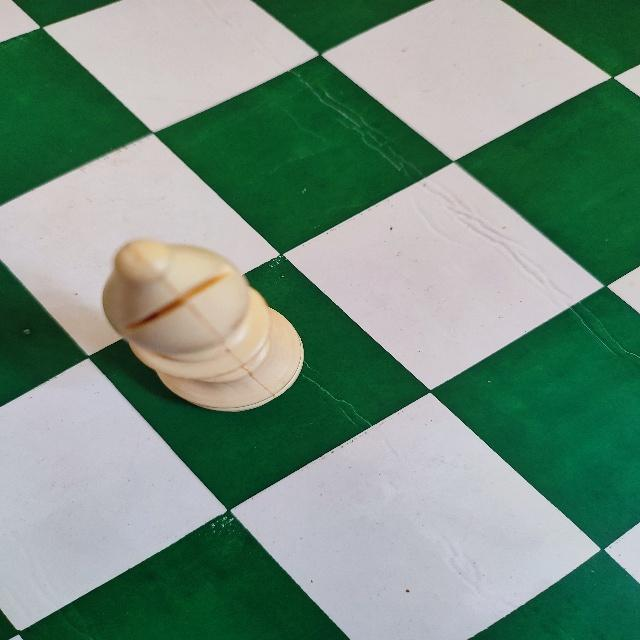Bishop: (100, 236, 312, 416)
